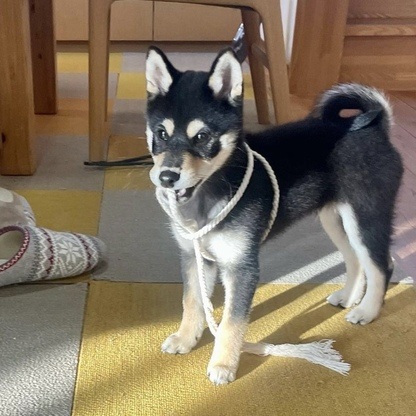shiba: (128, 39, 416, 390)
